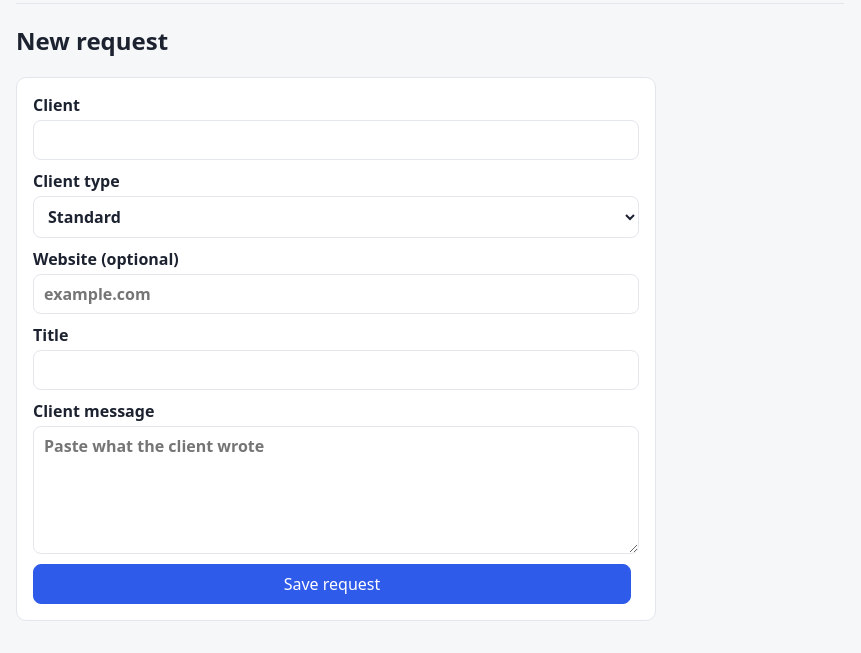
Test: New request page › suggests type, priority and reasons as the message is pasted (AC1 to AC4)
This screenshot has width=861, height=653.
In the field labelled "Client": [336, 140] box [33, 120, 639, 160], type "Acme"
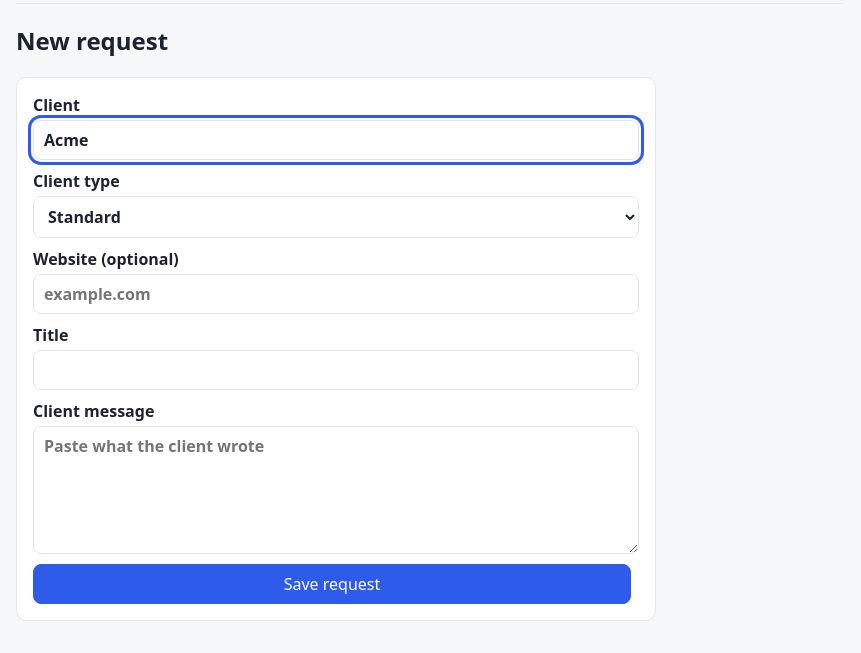
In the field labelled "Title": [336, 370] box [33, 350, 639, 390], type "Site down"
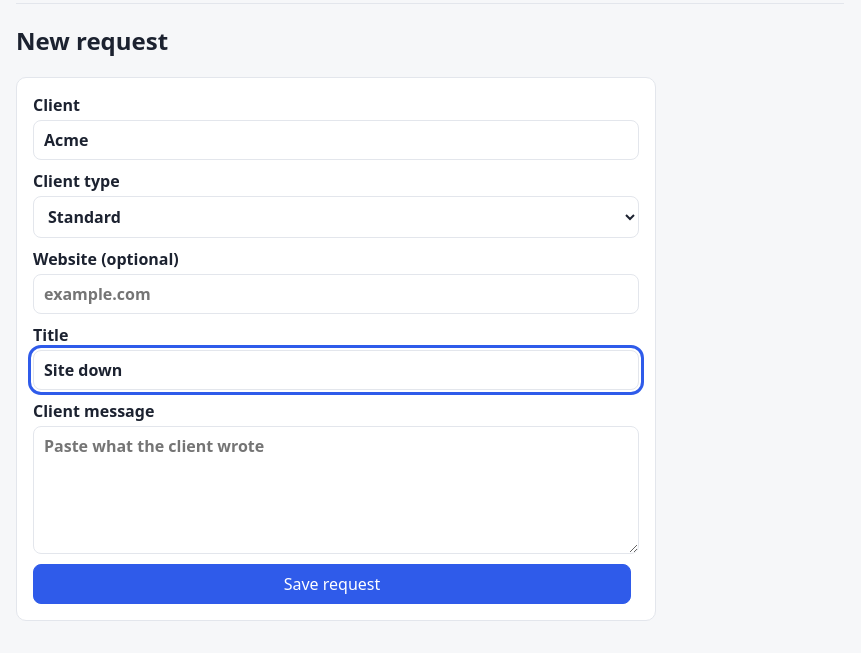
In the text box labelled "Client message": [336, 490] box [33, 426, 639, 554], type "Our website is down and customers cannot order!! asap"
(page scrolled)
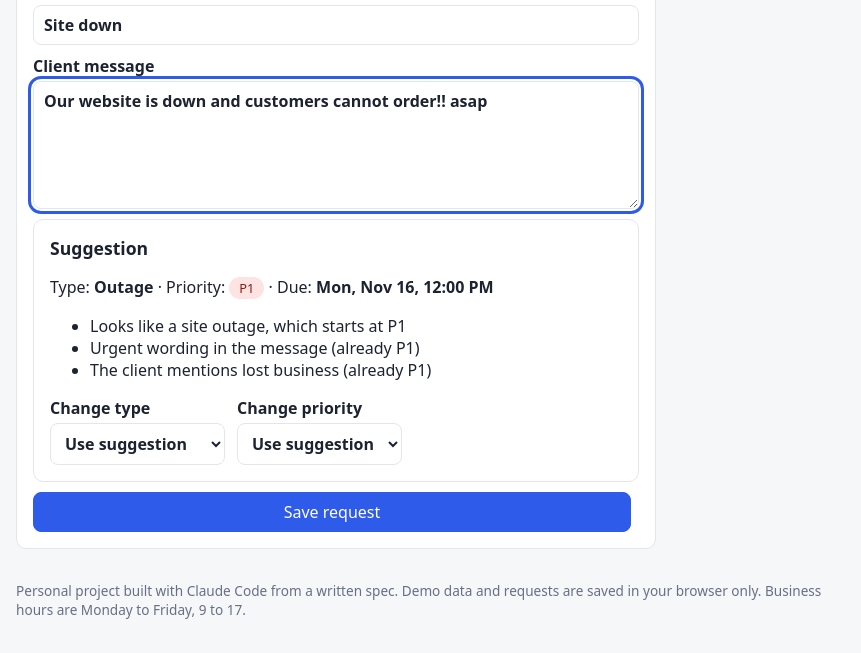
Now the text "Suggestion" shows "Type: Outage · Priority: P1", box [33, 219, 639, 482]
